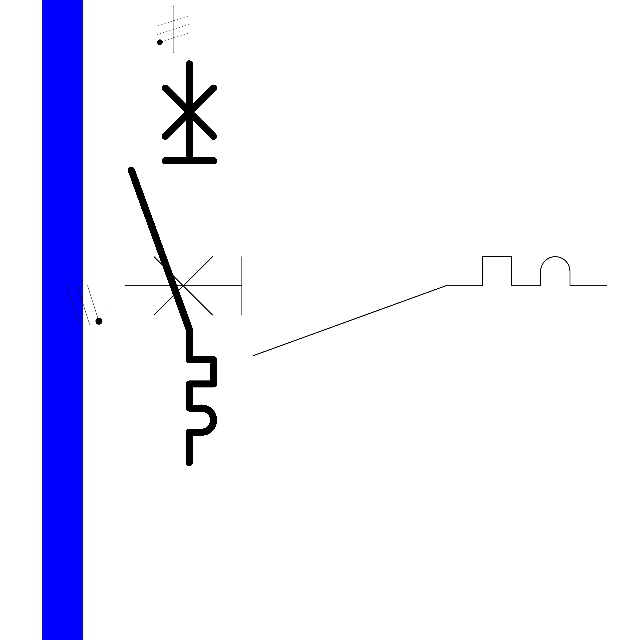interruptor_termomagnetico: (112, 244, 619, 368), (121, 53, 224, 473)
